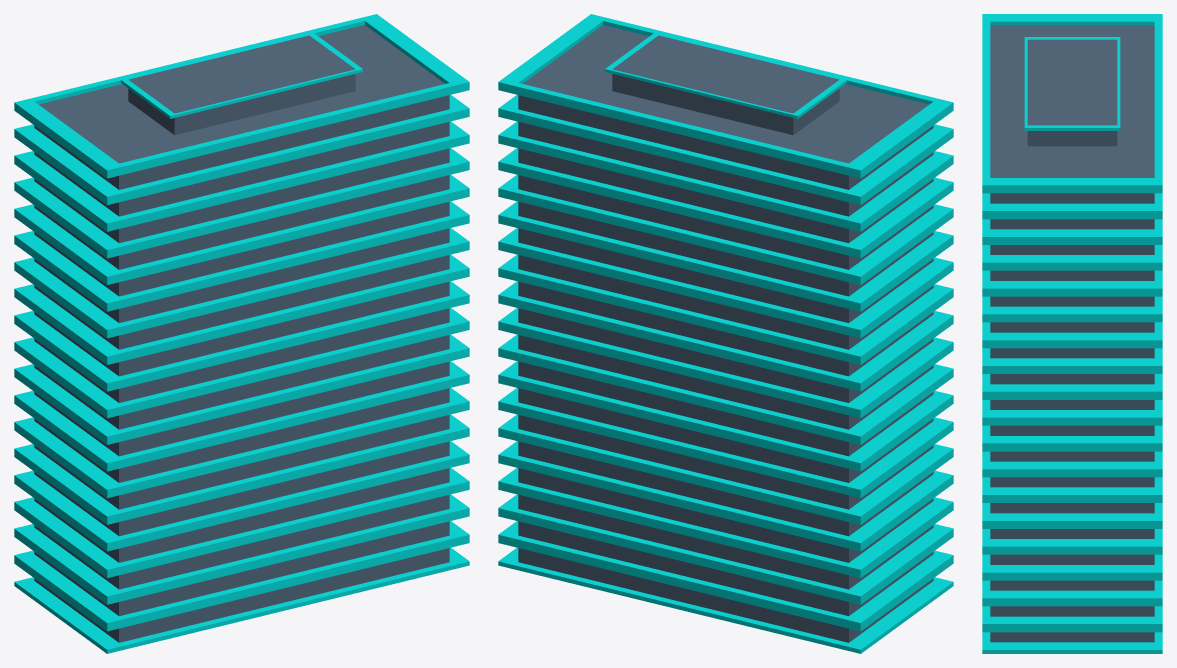
Rendered from PredioLeds.fbx.
The picture shows the model from 3 angles, left to right: view 1: azimuth 30°, elevation 25°; view 2: azimuth 150°, elevation 25°; view 3: azimuth 270°, elevation 25°; orthographic projection. The views are drawn at different scales.
Parts seen in each view (by area): view 1: PredioLedAzul; view 2: PredioLedAzul; view 3: PredioLedAzul.
Boxes of the visible parts, x1,y1,x2,y2 form: PredioLedAzul: (14, 14, 469, 653); PredioLedAzul: (498, 14, 953, 653); PredioLedAzul: (982, 14, 1162, 653).
Bounding box in the file's own units: 337 × 445 × 150.
